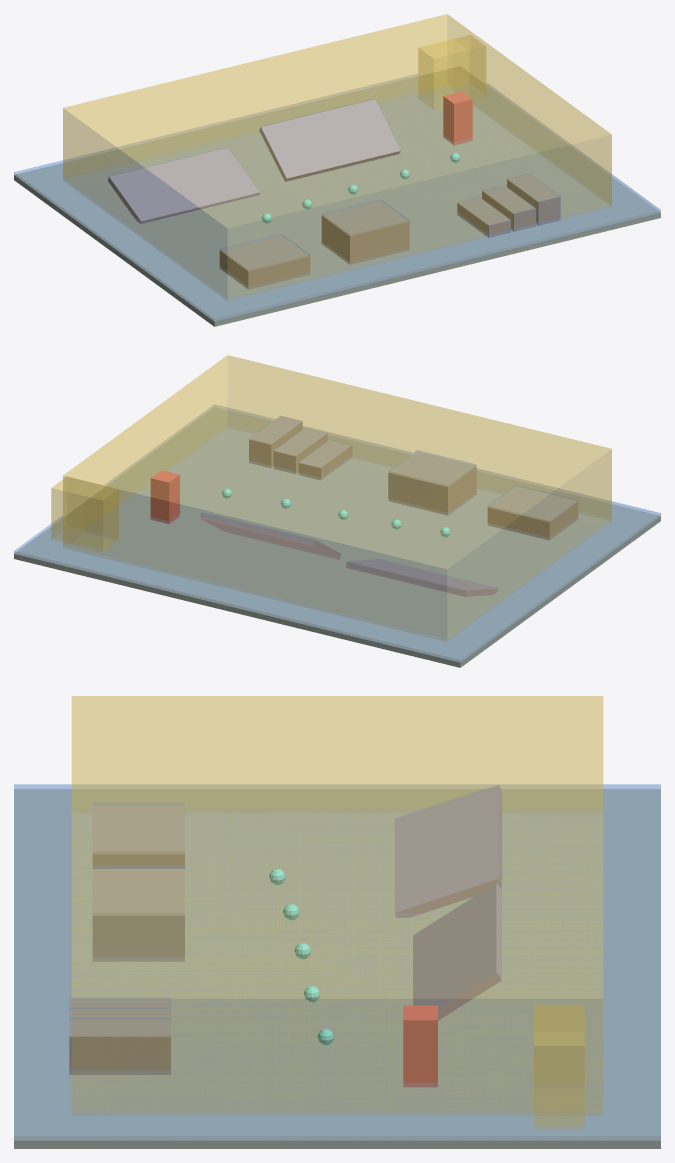
The model's file is movement_gym.glb.
The picture shows the model from 3 angles, top to bottom: view 1: azimuth 30°, elevation 25°; view 2: azimuth 150°, elevation 25°; view 3: azimuth 270°, elevation 25°; orthographic projection. The views are drawn at different scales.
Visible parts, largest first — view 1: CAMERA_zone_default, VIS_ground_main, COL_world_ground, VIS_ramp_35deg, VIS_ramp_20deg, COL_ramp_35deg, COL_ramp_20deg, VIS_jump_landing, TRG_portal_town_square, VIS_jump_start, COL_jump_start, COL_jump_landing (+7 smaller); view 2: CAMERA_zone_default, VIS_ground_main, COL_world_ground, VIS_jump_landing, TRG_portal_town_square, VIS_jump_start, VIS_ramp_20deg, COL_jump_landing, COL_jump_start, VIS_ramp_35deg, COL_ramp_20deg, VIS_step_03 (+7 smaller); view 3: CAMERA_zone_default, VIS_ground_main, COL_world_ground, VIS_ramp_20deg, COL_ramp_20deg, VIS_jump_landing, VIS_ramp_35deg, COL_jump_landing, COL_ramp_35deg, TRG_portal_town_square, VIS_jump_start, VIS_step_03 (+7 smaller).
Boxes of the visible parts, x1,y1,x2,y2 form: CAMERA_zone_default: [63, 14, 611, 300]; VIS_ground_main: [14, 66, 660, 326]; COL_world_ground: [14, 74, 660, 322]; VIS_ramp_35deg: [259, 99, 400, 181]; VIS_ramp_20deg: [108, 147, 259, 223]; COL_ramp_35deg: [260, 99, 399, 179]; COL_ramp_20deg: [108, 147, 259, 220]; VIS_jump_landing: [321, 201, 409, 264]; TRG_portal_town_square: [418, 35, 485, 110]; VIS_jump_start: [219, 235, 310, 289]; COL_jump_start: [220, 234, 309, 274]; COL_jump_landing: [322, 199, 409, 242]; CAMERA_zone_default: [63, 355, 611, 641]; VIS_ground_main: [14, 407, 660, 667]; COL_world_ground: [14, 404, 660, 662]; VIS_jump_landing: [388, 452, 476, 515]; TRG_portal_town_square: [51, 477, 118, 551]; VIS_jump_start: [487, 486, 578, 540]; VIS_ramp_20deg: [346, 559, 498, 596]; COL_jump_landing: [388, 450, 476, 502]; COL_jump_start: [488, 485, 577, 524]; VIS_ramp_35deg: [200, 512, 341, 559]; COL_ramp_20deg: [346, 559, 497, 594]; VIS_step_03: [249, 416, 302, 467]; CAMERA_zone_default: [71, 696, 603, 1115]; VIS_ground_main: [14, 789, 660, 1148]; COL_world_ground: [14, 784, 660, 1142]; VIS_ramp_20deg: [394, 785, 502, 917]; COL_ramp_20deg: [395, 784, 501, 912]; VIS_jump_landing: [92, 869, 184, 961]; VIS_ramp_35deg: [413, 883, 502, 1020]; COL_jump_landing: [93, 866, 184, 957]; COL_ramp_35deg: [414, 882, 501, 1008]; TRG_portal_town_square: [534, 1005, 584, 1129]; VIS_jump_start: [92, 805, 184, 868]; VIS_step_03: [69, 1019, 170, 1074].
Bounding box in the file's own units: 18 × 3 × 14.
